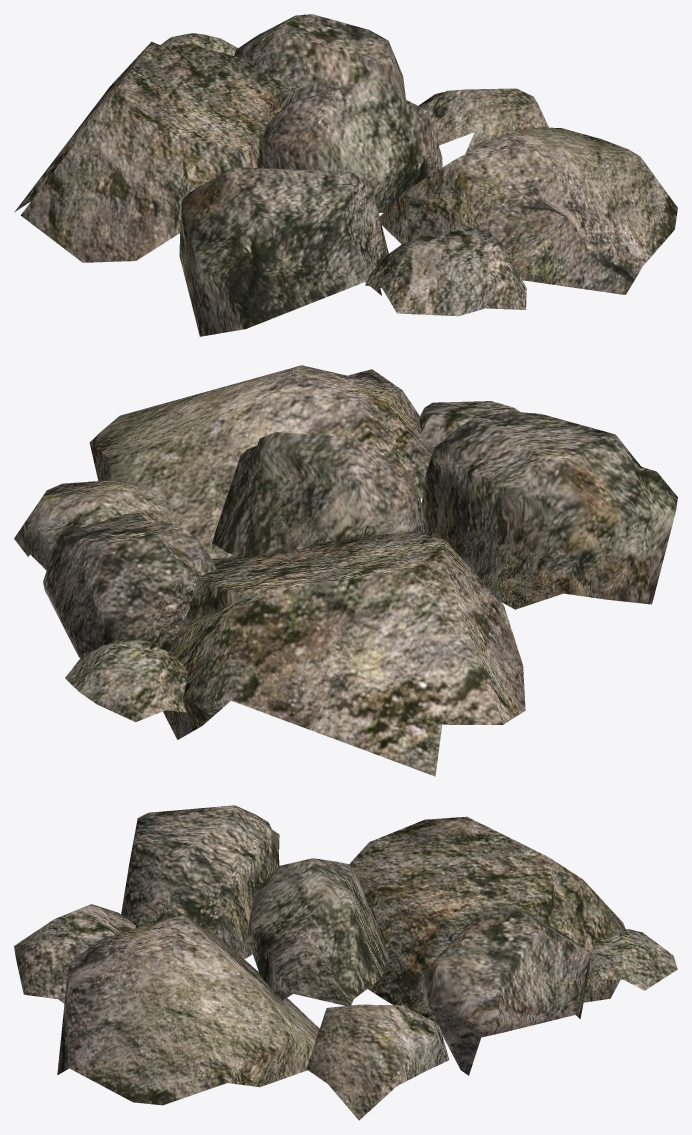
Rendered from rock11.glb.
The picture shows the model from 3 angles, top to bottom: view 1: azimuth 30°, elevation 25°; view 2: azimuth 150°, elevation 25°; view 3: azimuth 270°, elevation 25°; orthographic projection. The views are drawn at different scales.
Visible parts, largest first — view 1: rock14; view 2: rock14; view 3: rock14.
Part boxes in pixels (<box>): rock14: <box>14,14,677,336</box>; rock14: <box>14,365,677,776</box>; rock14: <box>14,805,677,1120</box>.
Bounding box in the file's own units: 6.58 × 2.08 × 7.94.
Materials: 1 (1 with a texture image).
